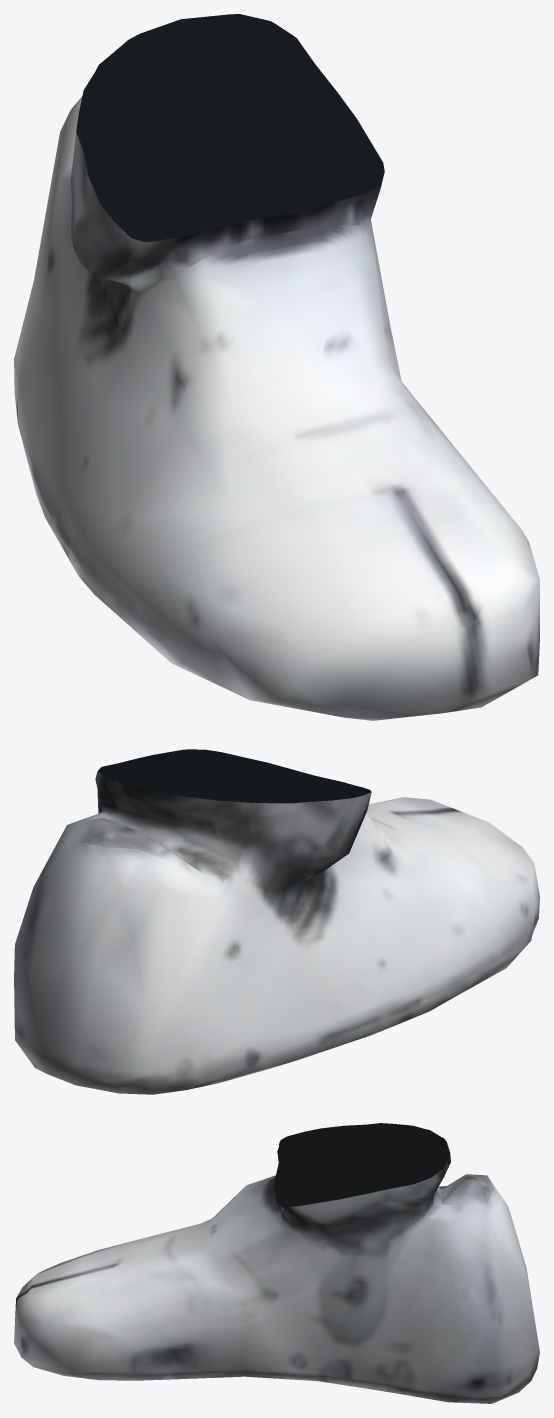
File: right_foot.obj
3 renders of one model, top to bottom at view 1: azimuth 30°, elevation 25°; view 2: azimuth 150°, elevation 25°; view 3: azimuth 270°, elevation 25°, orthographic. The views are drawn at different scales.
Parts seen in each view (by area): view 1: right_foot; view 2: right_foot; view 3: right_foot.
Part boxes in pixels (x1,y1,x2,y2): right_foot: (14, 14, 539, 720); right_foot: (14, 749, 539, 1094); right_foot: (14, 1123, 539, 1403).
Size of the model in its own units: 0.1777 by 0.1548 by 0.3325.
Materials: 2 (1 with a texture image).
